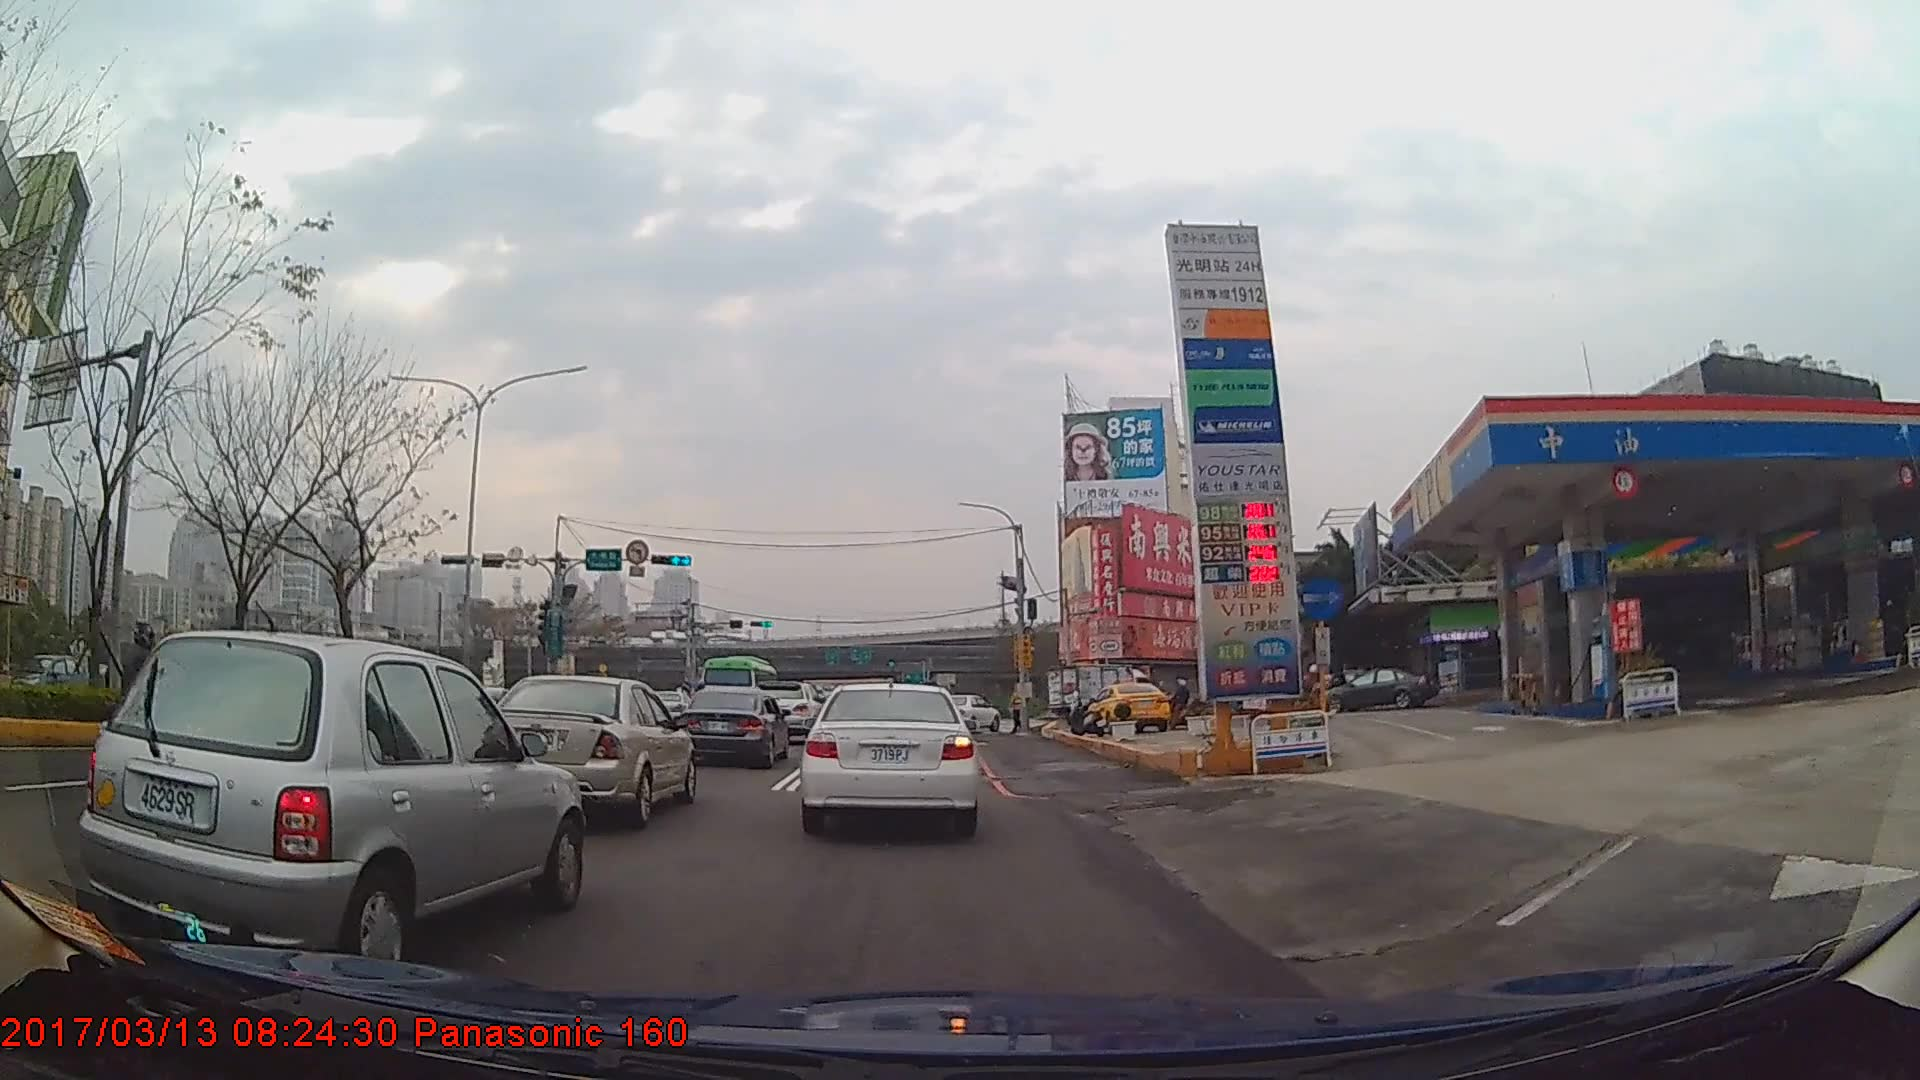rider: (102, 622, 186, 776), (1296, 666, 1329, 725), (1167, 678, 1202, 731), (1265, 672, 1286, 722)
vehicle: (73, 630, 584, 962), (475, 671, 698, 826), (803, 679, 979, 835), (672, 684, 792, 768), (1043, 662, 1152, 724), (1321, 666, 1437, 711), (697, 653, 779, 716), (752, 677, 827, 739), (1089, 679, 1172, 731), (8, 652, 86, 705), (937, 691, 1002, 732)
